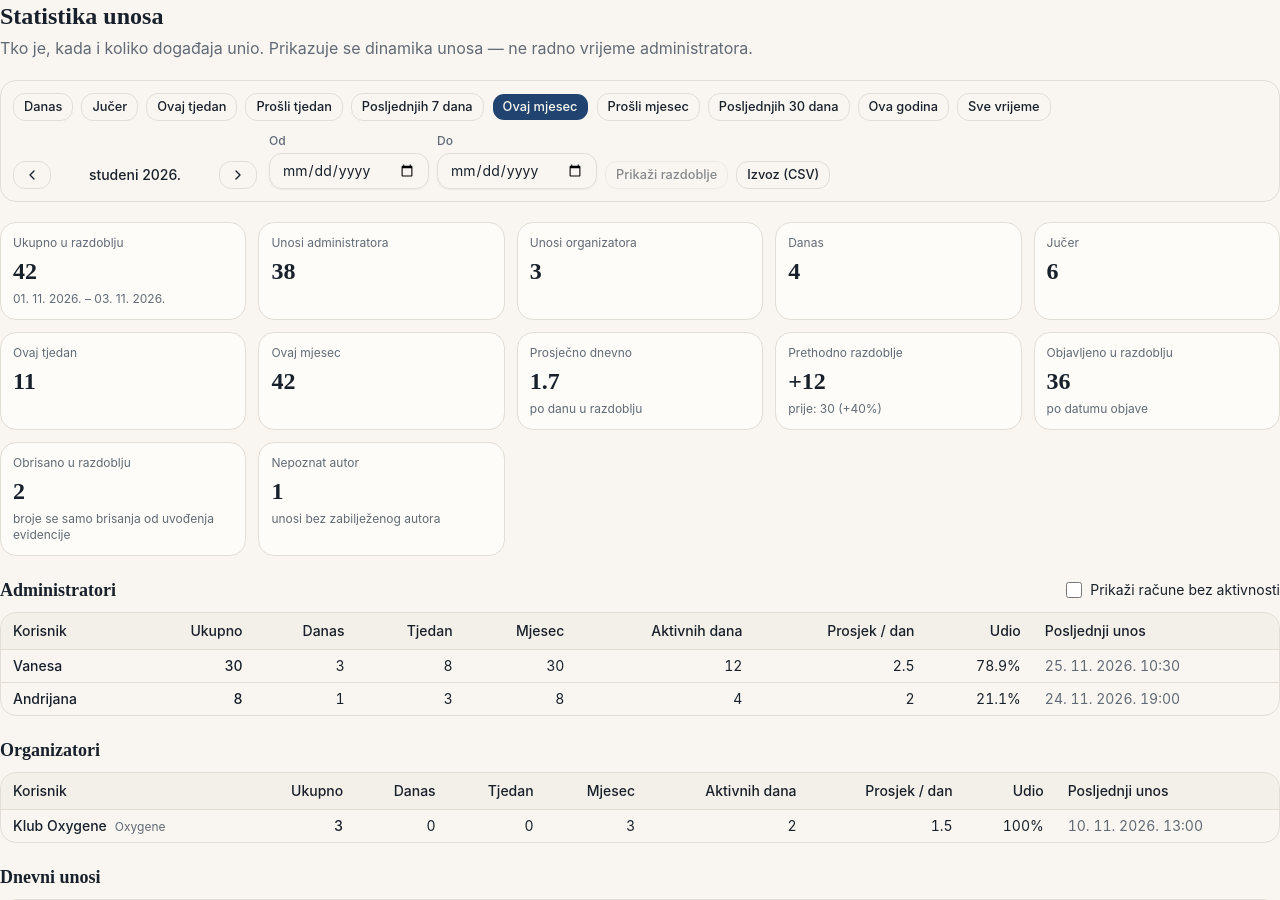
Test: entry statistics page › hides accounts with no activity until asked
Click the checkbox labelled "Prikaži račune bez aktivnosti": x=1074, y=590 [1066,582,1082,598]
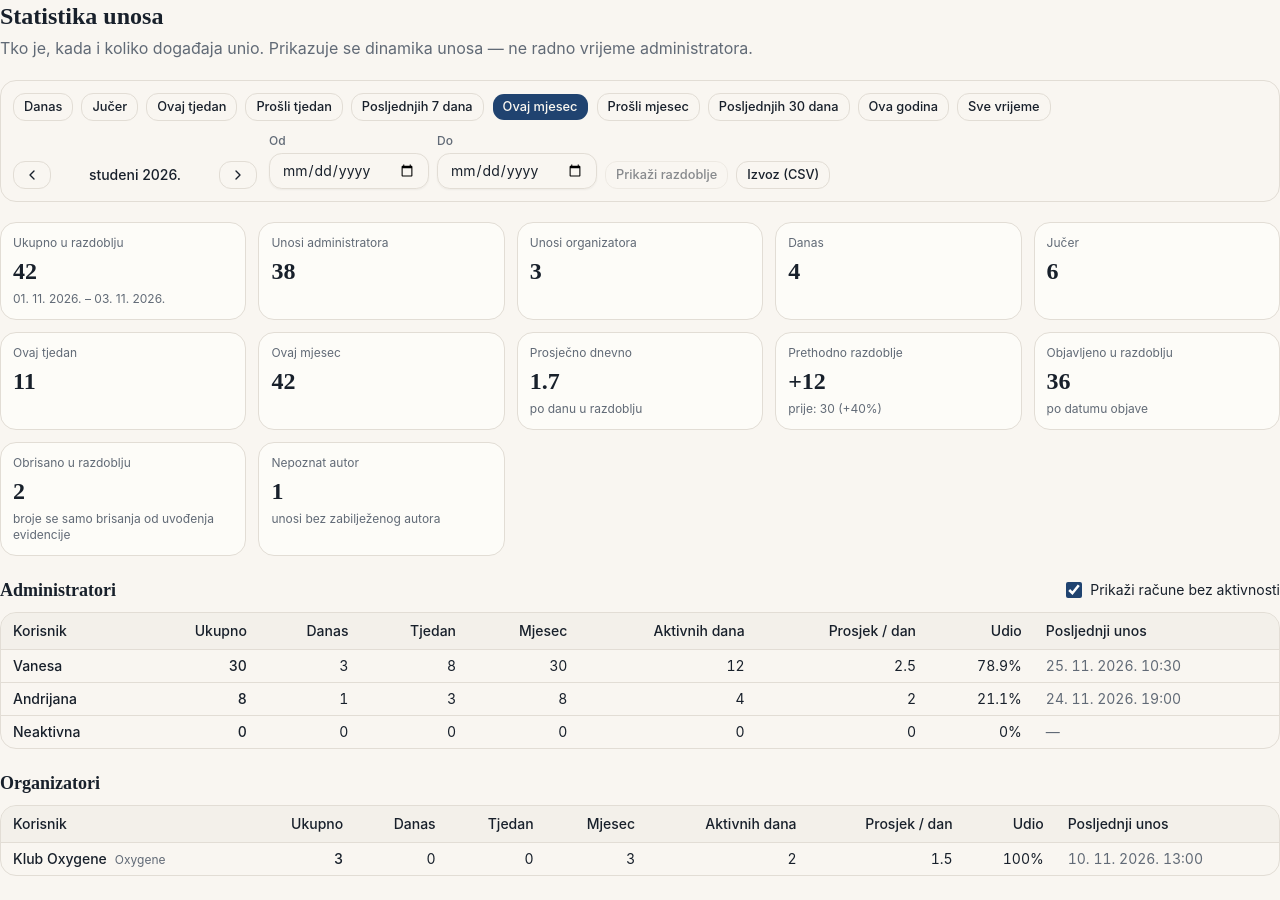
Check: the text "Neaktivna" is shown, box [13,722,80,742]
